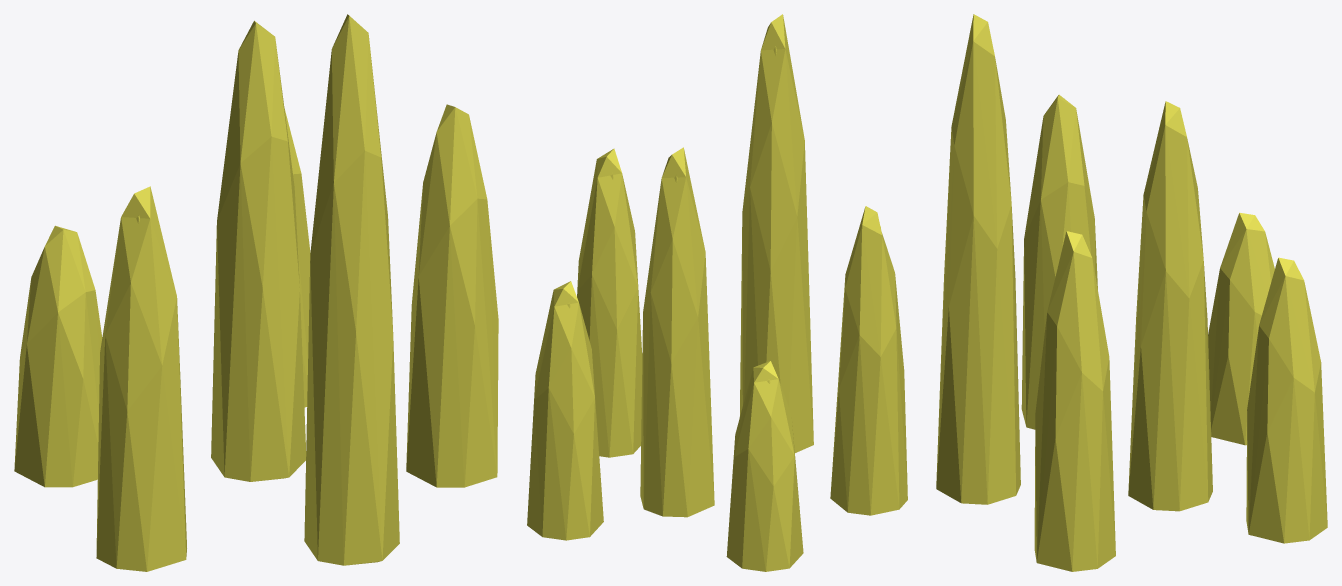
Rendered from pedal1.gltf.
3 renders of one model, left to right at view 1: azimuth 30°, elevation 25°; view 2: azimuth 150°, elevation 25°; view 3: azimuth 270°, elevation 25°, orthographic. The views are drawn at different scales.
Visible parts, largest first — view 1: Sphere.097_Flowers01_0; view 2: Sphere.097_Flowers01_0; view 3: Sphere.097_Flowers01_0.
Part boxes in pixels (left/top/right/bottom): Sphere.097_Flowers01_0: left=14, top=14, right=498, bottom=571; Sphere.097_Flowers01_0: left=527, top=14, right=907, bottom=571; Sphere.097_Flowers01_0: left=936, top=14, right=1327, bottom=571.
Size of the model in its own units: 0.1475 by 0.187 by 0.1407.
